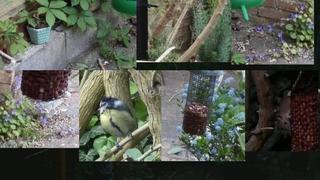blue tit: (97, 97, 137, 150)
mouse: (274, 97, 292, 130)
